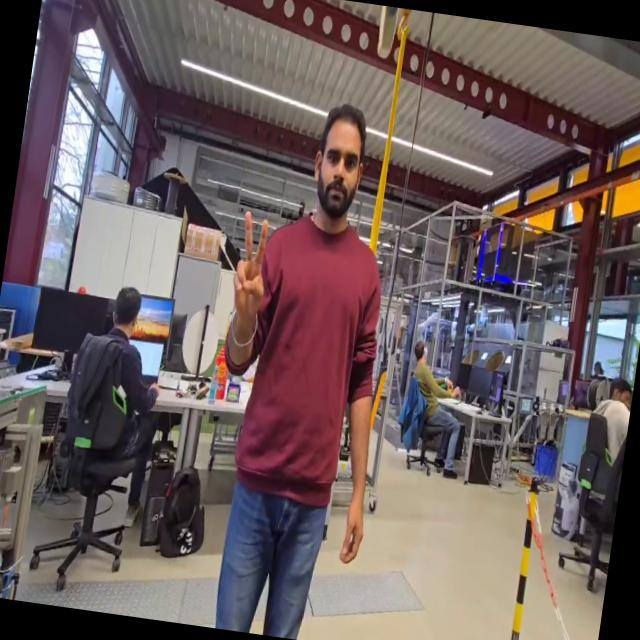v_sign: (224, 207, 276, 327)
